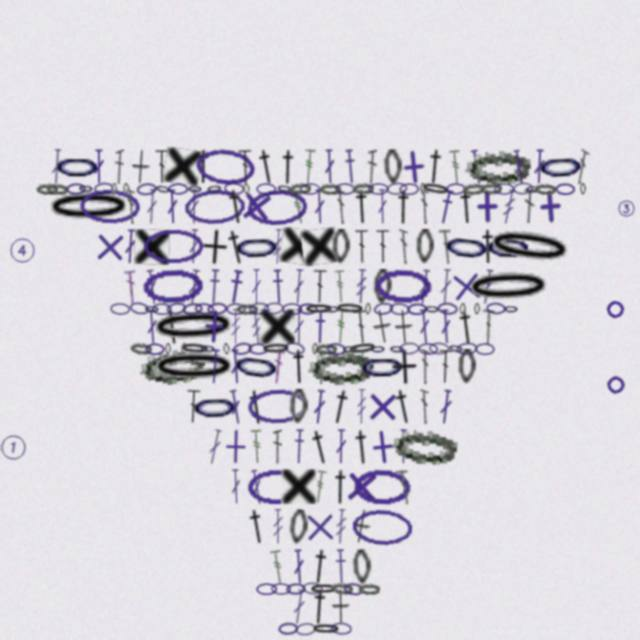chain: (484, 224, 575, 270), (149, 307, 238, 346), (464, 268, 553, 306), (150, 349, 238, 385), (45, 189, 133, 225), (138, 345, 207, 388), (391, 427, 458, 466), (194, 146, 256, 187), (308, 348, 374, 386), (465, 148, 531, 186), (351, 508, 414, 546), (246, 188, 309, 226), (184, 188, 245, 226), (247, 388, 308, 425), (142, 268, 203, 305), (79, 188, 140, 225), (353, 468, 412, 505), (374, 268, 433, 305), (230, 346, 283, 387), (247, 469, 308, 504), (143, 229, 203, 264), (441, 227, 493, 267), (536, 148, 586, 185), (190, 389, 240, 425), (232, 229, 282, 265), (484, 229, 533, 265), (358, 349, 407, 384), (53, 149, 102, 184), (288, 509, 309, 545), (352, 549, 372, 585), (383, 149, 403, 185), (289, 389, 308, 424), (373, 269, 392, 304), (458, 349, 476, 384), (332, 229, 350, 264), (416, 229, 434, 264), (420, 181, 451, 197), (347, 341, 378, 356), (180, 342, 210, 355), (261, 342, 291, 355), (335, 302, 365, 315), (311, 623, 341, 635), (309, 583, 339, 595), (304, 303, 334, 315), (462, 182, 485, 196), (232, 341, 253, 356), (284, 341, 305, 356), (129, 301, 150, 316), (166, 301, 187, 316), (373, 301, 394, 316), (295, 622, 317, 636), (343, 582, 364, 596), (326, 342, 347, 356), (182, 302, 203, 316), (194, 302, 215, 316), (389, 302, 410, 316), (136, 182, 157, 196), (331, 582, 353, 595), (130, 342, 152, 355), (456, 342, 478, 355), (289, 182, 311, 195), (352, 182, 374, 195), (386, 182, 408, 195), (480, 182, 502, 195), (331, 622, 352, 635), (302, 582, 323, 595), (263, 302, 284, 315), (437, 302, 458, 315), (447, 341, 465, 356), (358, 583, 380, 595), (315, 343, 337, 355), (236, 303, 258, 315), (36, 183, 58, 195), (46, 183, 68, 195), (319, 183, 341, 195), (534, 183, 556, 195), (278, 622, 298, 635), (399, 342, 419, 355), (429, 342, 449, 355), (207, 302, 227, 315), (249, 302, 269, 315), (486, 302, 506, 315), (94, 182, 114, 195), (224, 182, 244, 195), (513, 182, 533, 195), (256, 583, 277, 595), (154, 182, 172, 196), (368, 183, 389, 195), (271, 583, 291, 595), (286, 583, 306, 595), (145, 343, 165, 355), (248, 343, 268, 355), (418, 343, 438, 355), (475, 343, 495, 355), (110, 303, 130, 315), (152, 303, 172, 315), (226, 303, 246, 315), (282, 303, 302, 315), (298, 303, 318, 315), (407, 303, 427, 315), (66, 183, 86, 195), (168, 183, 188, 195), (256, 183, 276, 195), (300, 183, 320, 195), (335, 183, 355, 195), (399, 183, 419, 195), (446, 183, 466, 195), (494, 183, 514, 195), (555, 183, 575, 195), (206, 182, 223, 195), (276, 182, 293, 195), (200, 342, 216, 355), (78, 182, 94, 195), (342, 343, 358, 355), (370, 343, 386, 355), (389, 343, 405, 355), (144, 303, 160, 315), (324, 303, 340, 315), (424, 303, 440, 315), (503, 303, 519, 315), (187, 183, 203, 195), (525, 183, 541, 195), (223, 343, 230, 355), (459, 303, 466, 315), (123, 183, 130, 195), (243, 183, 250, 195), (165, 343, 171, 355), (181, 343, 187, 355), (312, 343, 318, 355), (365, 303, 371, 315), (474, 303, 480, 315), (111, 183, 117, 195), (420, 183, 426, 195), (580, 183, 586, 195)
double: (206, 429, 224, 465), (395, 469, 412, 505), (227, 389, 244, 425), (353, 309, 370, 345), (479, 269, 496, 305), (468, 149, 485, 185), (291, 589, 307, 625), (249, 469, 265, 505), (438, 389, 454, 425), (144, 269, 160, 305), (186, 269, 202, 305), (511, 149, 527, 185), (574, 149, 590, 185), (312, 389, 327, 425), (417, 269, 432, 305), (186, 389, 201, 424), (438, 349, 453, 384), (417, 309, 432, 344), (480, 309, 495, 344), (438, 229, 453, 264), (238, 149, 253, 184), (292, 549, 306, 584), (229, 349, 243, 384), (271, 349, 285, 384), (313, 349, 327, 384), (145, 309, 159, 344), (124, 269, 138, 304), (313, 269, 327, 304), (439, 269, 453, 304), (355, 229, 369, 264), (376, 229, 390, 264), (145, 189, 159, 224), (50, 149, 64, 184), (155, 149, 169, 184), (292, 269, 305, 304), (124, 229, 137, 264), (166, 189, 179, 224), (313, 189, 326, 224), (523, 189, 536, 224), (323, 149, 336, 184), (533, 149, 546, 184), (230, 469, 242, 504), (335, 429, 347, 464), (293, 309, 305, 344), (440, 309, 452, 344), (188, 229, 200, 264), (188, 189, 200, 224), (93, 149, 105, 184), (398, 429, 409, 464), (251, 269, 262, 304), (377, 189, 388, 224), (420, 349, 430, 384), (399, 229, 409, 264), (126, 189, 136, 224), (336, 189, 346, 224), (367, 149, 377, 184), (273, 429, 282, 464), (420, 389, 429, 424), (420, 189, 429, 224), (115, 149, 124, 184)
half_double: (327, 388, 354, 426), (307, 428, 333, 466), (223, 228, 249, 266), (391, 388, 416, 425), (254, 148, 279, 185), (308, 548, 332, 585), (245, 508, 269, 545), (224, 188, 248, 225), (423, 148, 447, 185), (308, 589, 331, 625), (245, 389, 268, 425), (161, 309, 184, 345), (455, 309, 478, 345), (351, 429, 373, 465), (277, 149, 299, 185), (330, 469, 351, 505), (393, 189, 414, 225), (456, 189, 477, 224), (193, 149, 214, 184), (436, 189, 456, 225), (289, 349, 309, 384), (478, 229, 498, 264), (352, 189, 372, 224), (226, 269, 245, 305), (207, 349, 222, 384), (207, 269, 222, 304), (343, 149, 358, 184), (334, 549, 348, 584), (292, 429, 306, 464), (313, 309, 327, 344), (271, 269, 285, 304)
noise: (0, 431, 29, 463), (8, 236, 36, 264), (604, 373, 627, 396), (604, 298, 626, 320), (616, 198, 637, 219)
single: (447, 267, 486, 306), (279, 227, 318, 266), (300, 227, 339, 266), (237, 187, 276, 226), (163, 147, 202, 186), (364, 428, 402, 466), (395, 148, 433, 186), (343, 468, 380, 505), (196, 308, 233, 345), (532, 188, 569, 225), (302, 509, 338, 545), (92, 229, 128, 265), (134, 229, 170, 265), (281, 469, 316, 504), (218, 429, 253, 464), (365, 389, 400, 424), (260, 309, 295, 344), (470, 189, 505, 224), (200, 229, 229, 265), (390, 349, 418, 385), (350, 508, 373, 545), (371, 308, 394, 345), (394, 309, 414, 345), (131, 149, 151, 185), (332, 589, 350, 624)
treble: (289, 189, 308, 225), (269, 549, 287, 585), (500, 189, 518, 225), (312, 469, 328, 505), (448, 149, 464, 185), (249, 309, 264, 345), (334, 509, 348, 544), (250, 429, 264, 464), (355, 349, 369, 384), (334, 309, 348, 344), (302, 149, 316, 184), (334, 269, 347, 304), (355, 269, 368, 304), (272, 509, 284, 544), (272, 229, 284, 264), (356, 389, 367, 424), (230, 309, 241, 344)
